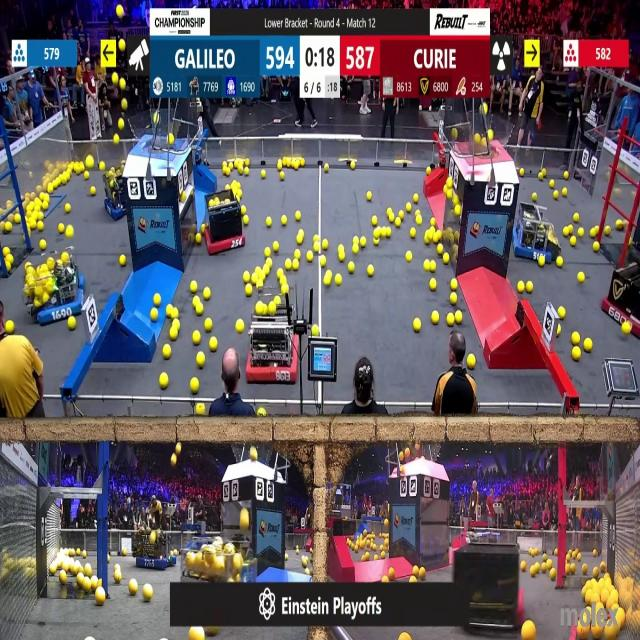ball_airborne: (241, 510, 250, 530), (250, 449, 258, 461), (111, 72, 118, 85), (481, 135, 489, 146), (120, 99, 127, 111), (118, 78, 125, 89), (117, 40, 124, 51), (171, 455, 178, 466), (119, 5, 125, 17), (452, 129, 458, 140), (117, 118, 123, 128), (474, 134, 480, 144), (113, 134, 119, 144), (488, 132, 494, 142), (176, 444, 181, 455), (169, 136, 174, 146), (484, 104, 489, 114), (399, 451, 403, 461), (399, 465, 404, 473)
ball_ground: (522, 622, 534, 640), (143, 585, 153, 602), (96, 589, 106, 605), (190, 628, 203, 639), (161, 374, 170, 389), (189, 379, 198, 393), (130, 582, 139, 596), (255, 303, 264, 316), (197, 405, 206, 418), (192, 332, 200, 346), (164, 345, 172, 359), (210, 338, 218, 352), (467, 354, 475, 368), (5, 320, 13, 334), (198, 353, 206, 367), (235, 556, 243, 570), (170, 327, 178, 340), (585, 339, 593, 352), (414, 319, 422, 332), (237, 320, 245, 333), (68, 317, 76, 330), (269, 303, 277, 316), (205, 318, 212, 332), (447, 314, 455, 326), (623, 322, 631, 334), (572, 348, 580, 360), (572, 334, 580, 346), (87, 158, 95, 170), (431, 312, 438, 325), (150, 309, 157, 322), (204, 287, 211, 300), (296, 232, 303, 245), (61, 570, 68, 583), (450, 292, 458, 303), (556, 256, 564, 267), (4, 221, 12, 232), (86, 565, 94, 576), (76, 573, 84, 584), (577, 272, 584, 284), (244, 272, 251, 284), (153, 293, 160, 305), (189, 281, 196, 293), (312, 324, 319, 336), (66, 227, 73, 239), (433, 232, 440, 244), (550, 568, 557, 580), (372, 228, 380, 238), (276, 270, 284, 280), (92, 577, 98, 590), (451, 280, 458, 291), (455, 313, 462, 324), (245, 284, 252, 295), (429, 280, 436, 291), (339, 250, 346, 261), (336, 275, 343, 286), (114, 570, 121, 581), (194, 306, 201, 317), (518, 282, 525, 293), (419, 567, 426, 578), (250, 274, 257, 285), (285, 261, 292, 272), (119, 254, 125, 266), (292, 262, 298, 274), (172, 319, 180, 328), (257, 410, 265, 419), (167, 306, 173, 318), (323, 276, 330, 286), (348, 264, 355, 274), (172, 309, 179, 319), (413, 566, 420, 576), (3, 247, 10, 257), (265, 266, 272, 276), (5, 264, 12, 274), (526, 282, 532, 293), (559, 308, 565, 319), (407, 251, 413, 262), (436, 243, 442, 254), (429, 262, 435, 273), (565, 565, 571, 576), (281, 285, 288, 294), (388, 568, 395, 577), (37, 221, 44, 230), (275, 295, 282, 304), (40, 240, 46, 250), (538, 256, 544, 266), (308, 251, 314, 261), (367, 266, 372, 278), (60, 223, 66, 233), (322, 240, 328, 250), (570, 237, 576, 247), (444, 253, 450, 263), (594, 242, 600, 252), (412, 229, 418, 239), (243, 215, 249, 225), (274, 242, 280, 252), (293, 249, 299, 259), (386, 228, 392, 238), (424, 262, 430, 272), (294, 211, 300, 221), (192, 294, 198, 304), (394, 217, 400, 227), (314, 243, 320, 253), (365, 190, 371, 200), (604, 225, 610, 235), (563, 226, 569, 236), (591, 229, 597, 239), (407, 203, 413, 213), (414, 192, 420, 202), (454, 206, 460, 216), (98, 576, 104, 586), (303, 558, 309, 568), (447, 178, 453, 188), (278, 160, 284, 170), (530, 566, 536, 576), (521, 561, 527, 571), (5, 255, 12, 263), (268, 216, 273, 227), (581, 563, 586, 574), (100, 163, 106, 172), (266, 248, 272, 257), (65, 204, 71, 213), (550, 182, 556, 191), (267, 257, 273, 266), (618, 220, 624, 229), (556, 326, 562, 335), (562, 187, 568, 196), (260, 170, 266, 179), (577, 229, 583, 238), (573, 213, 579, 222), (387, 208, 393, 217), (424, 237, 430, 246), (375, 238, 381, 247), (42, 201, 48, 210), (35, 212, 41, 221), (292, 160, 298, 169), (447, 189, 453, 198), (47, 184, 53, 193), (320, 256, 325, 266), (360, 238, 365, 248), (195, 235, 200, 245), (32, 220, 37, 230), (353, 246, 359, 254), (554, 190, 560, 198), (244, 168, 250, 176), (382, 574, 388, 582), (256, 280, 262, 288), (83, 172, 89, 180), (254, 267, 260, 275), (398, 211, 404, 219), (350, 164, 356, 172), (224, 168, 230, 176), (260, 274, 266, 282), (362, 554, 368, 562), (398, 634, 406, 640), (340, 244, 346, 252), (280, 277, 286, 285), (371, 216, 376, 225), (282, 216, 287, 225), (417, 215, 422, 224), (92, 186, 97, 195), (326, 163, 331, 172), (299, 160, 304, 169), (14, 215, 19, 224), (412, 575, 418, 582), (375, 554, 381, 561), (381, 554, 388, 560), (532, 192, 537, 200), (426, 168, 431, 176), (280, 172, 285, 180), (564, 172, 569, 180), (353, 237, 358, 245), (284, 554, 289, 562), (237, 574, 242, 582), (430, 218, 435, 225), (306, 568, 311, 575), (314, 235, 319, 242), (546, 560, 551, 567), (542, 555, 547, 562), (576, 554, 581, 561), (520, 169, 524, 177), (538, 173, 542, 181), (26, 288, 30, 296), (242, 207, 246, 215), (202, 224, 206, 232), (555, 550, 559, 557), (122, 550, 126, 557), (108, 556, 111, 564), (416, 210, 420, 216), (224, 184, 228, 190), (594, 550, 597, 557)
goal: (458, 114, 518, 158), (130, 115, 188, 152)
robot_blue: (28, 252, 88, 324), (513, 203, 557, 261), (133, 528, 175, 569), (103, 176, 128, 222)
robot_red: (448, 543, 521, 636), (247, 308, 297, 383), (603, 248, 640, 329), (205, 189, 245, 253)
